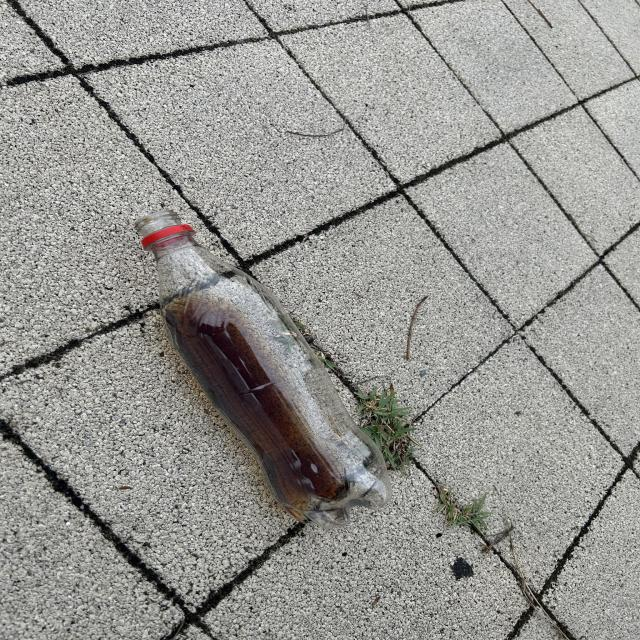low: (136, 210, 390, 528)
